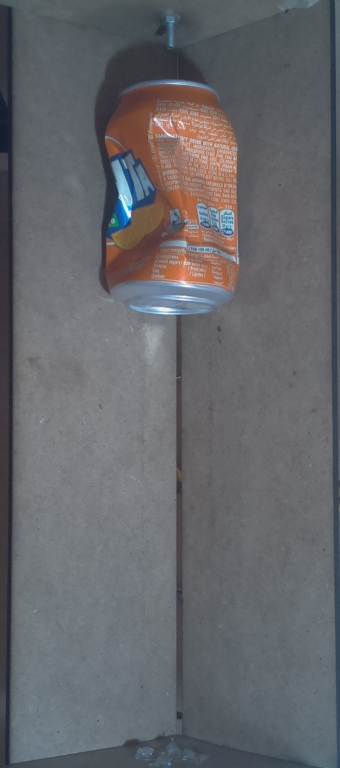Canette: (94, 73, 251, 322)
